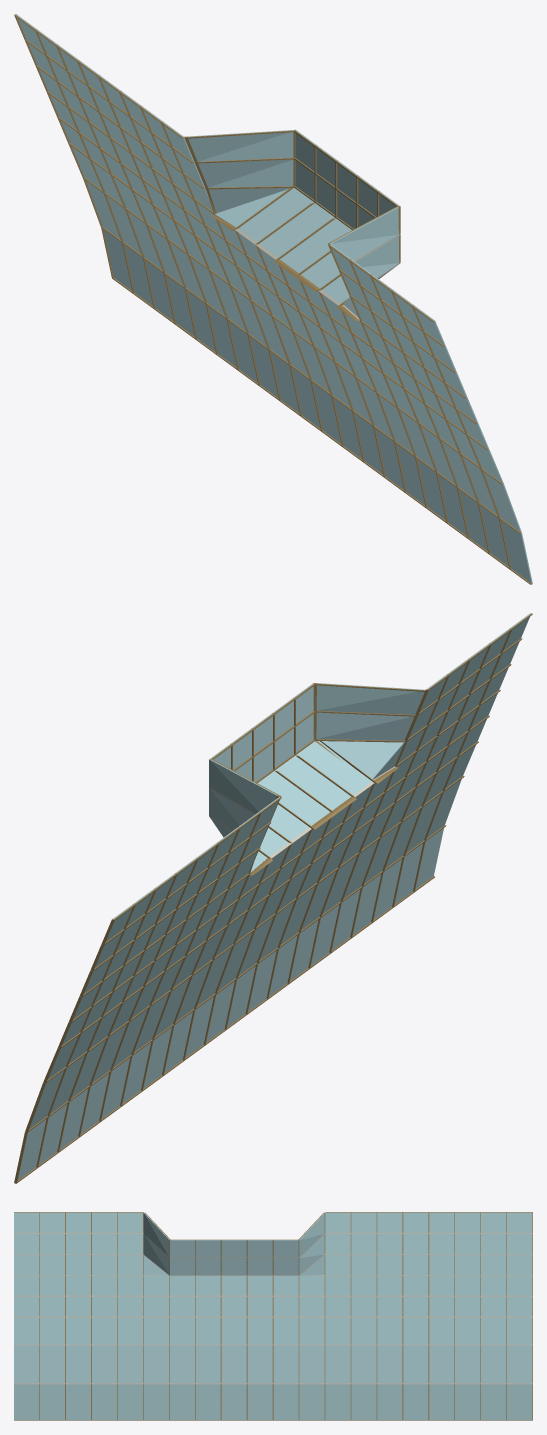
Rendered from G7_Completion_R003_Body_1_04.glb.
The picture shows the model from 3 angles, top to bottom: view 1: azimuth 30°, elevation 25°; view 2: azimuth 150°, elevation 25°; view 3: azimuth 270°, elevation 25°; orthographic projection. The views are drawn at different scales.
Parts seen in each view (by area): view 1: Body_1_04_G7C3_glass_solid_skin, Body_1_04_G7C3_metal_solid_frame; view 2: Body_1_04_G7C3_glass_solid_skin, Body_1_04_G7C3_metal_solid_frame; view 3: Body_1_04_G7C3_glass_solid_skin, Body_1_04_G7C3_shell_solid_skin, Body_1_04_G7C3_metal_solid_skin, Body_1_04_G7C3_metal_solid_frame.
Part boxes in pixels (left/top/right/bottom): Body_1_04_G7C3_glass_solid_skin: left=16, top=14, right=532, bottom=583; Body_1_04_G7C3_metal_solid_frame: left=14, top=14, right=531, bottom=584; Body_1_04_G7C3_glass_solid_skin: left=17, top=613, right=530, bottom=1180; Body_1_04_G7C3_metal_solid_frame: left=15, top=613, right=532, bottom=1183; Body_1_04_G7C3_glass_solid_skin: left=14, top=1212, right=532, bottom=1419; Body_1_04_G7C3_shell_solid_skin: left=14, top=1233, right=532, bottom=1420; Body_1_04_G7C3_metal_solid_skin: left=39, top=1212, right=532, bottom=1419; Body_1_04_G7C3_metal_solid_frame: left=14, top=1212, right=532, bottom=1240.
Size of the model in its own units: 16.63 by 45.5 by 120.
Materials: 3 (2 with a texture image).
